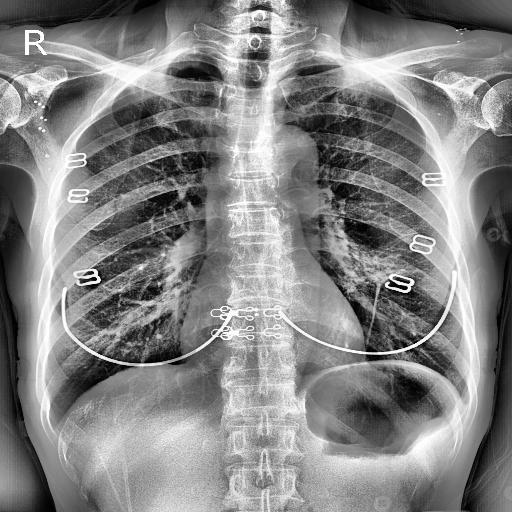0- Aortic enlargement: (262, 126, 319, 174), (268, 124, 316, 173)
13- Pulmonary fibrosis: (362, 266, 396, 360)
